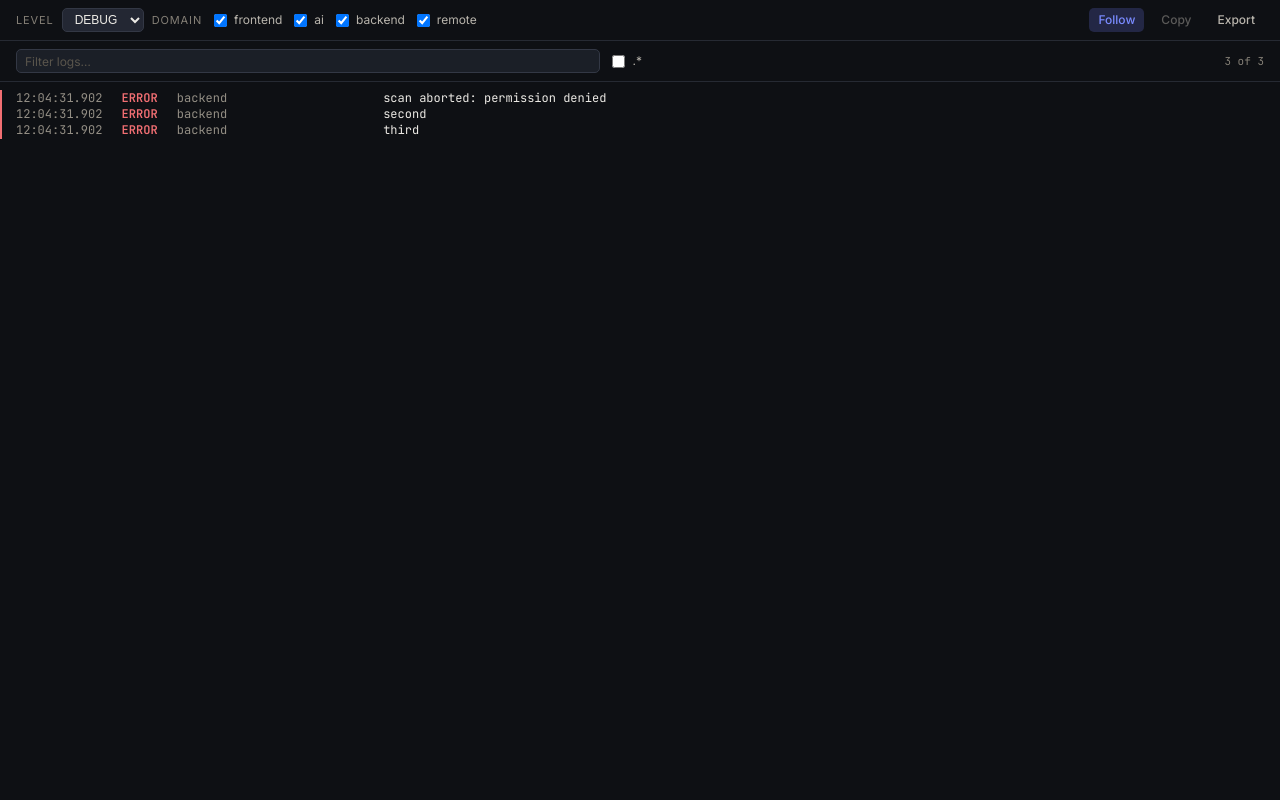
Test case: expanding a record (LOG-FR-04) › a plain click moves the selection and leaves earlier expansions open
What coordinates should you click on to do the following:
click the 1st button with class "logs__line"
I would click on:
 (59, 98)
Its box is [0, 90, 1279, 106].
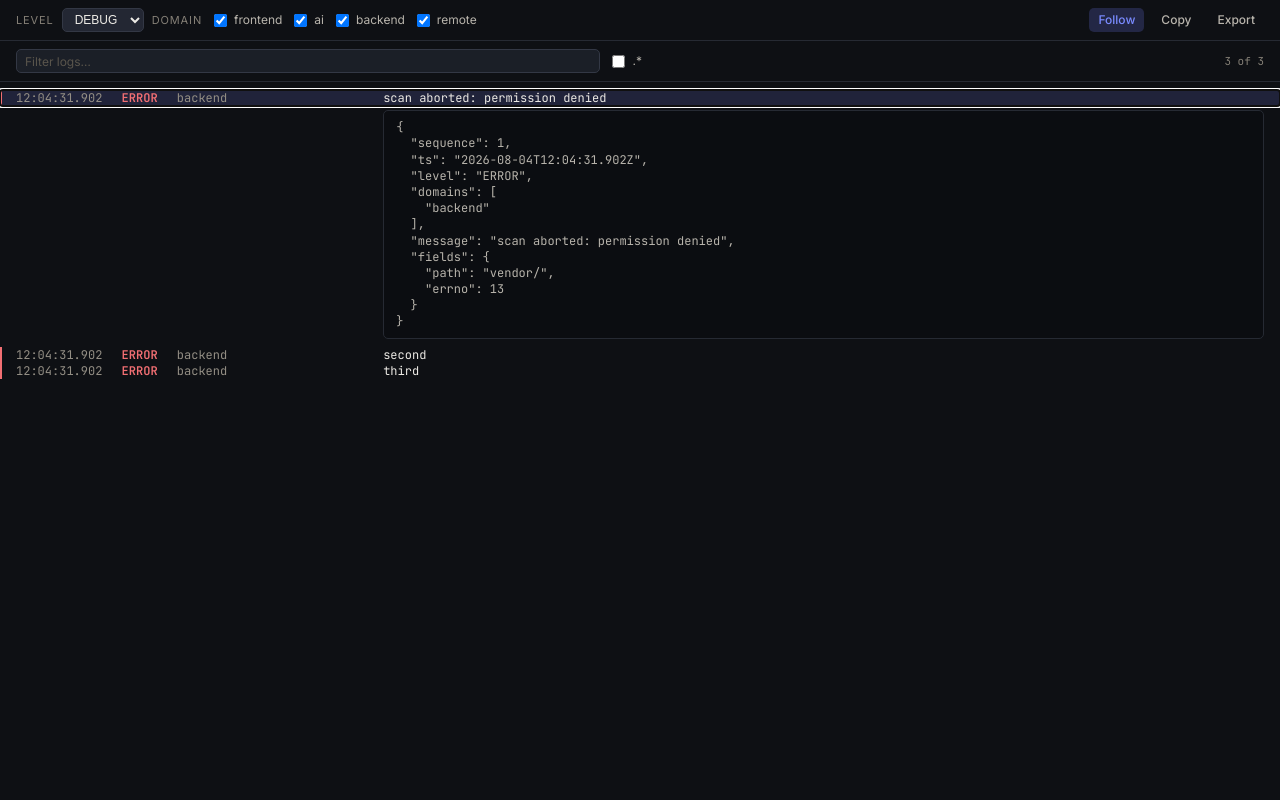
Expected: the number of elements with test id "logs-json" is 1, [383, 110, 1264, 339]
What coordinates should you click on to do the following:
click the 2nd button with class "logs__line"
I would click on:
 (59, 355)
Its box is [0, 347, 1279, 363].
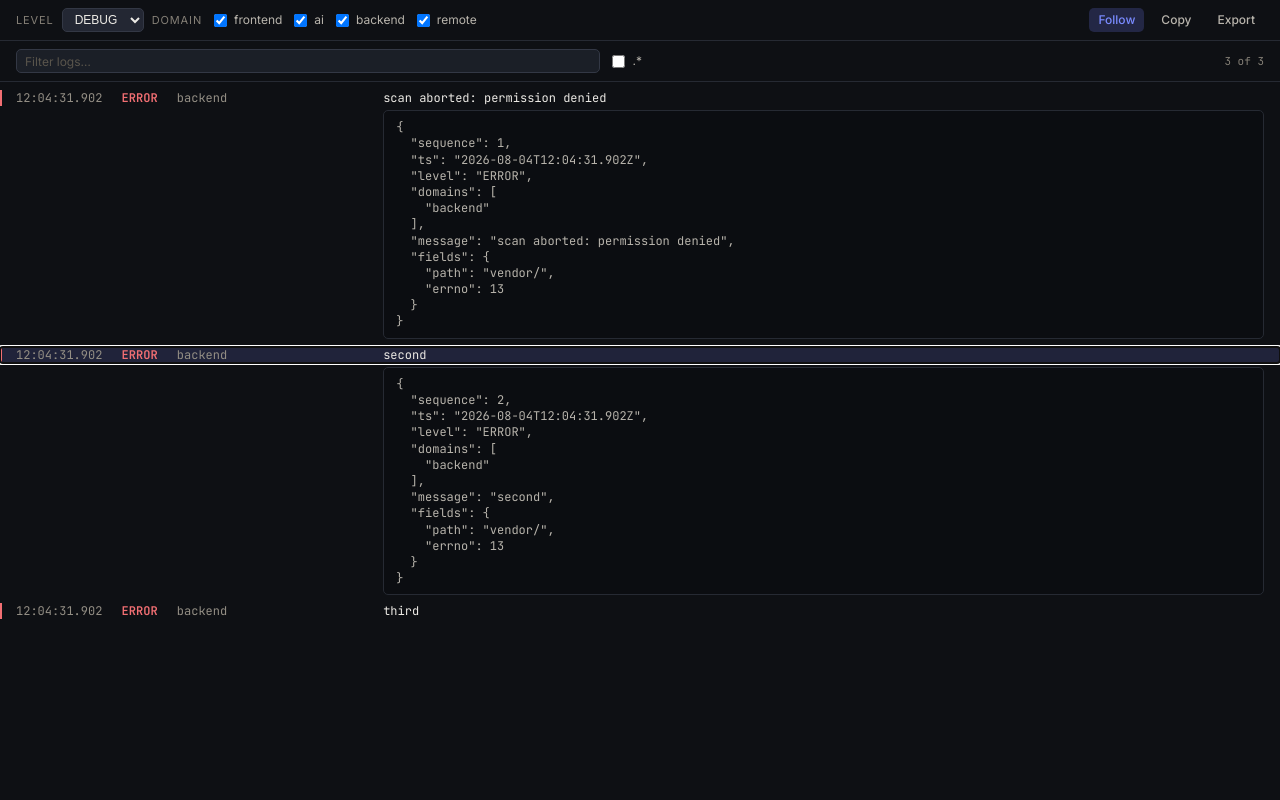
Expected: the number of elements with test id "logs-json" is 2, [383, 110, 1264, 339]; [383, 367, 1264, 595]
